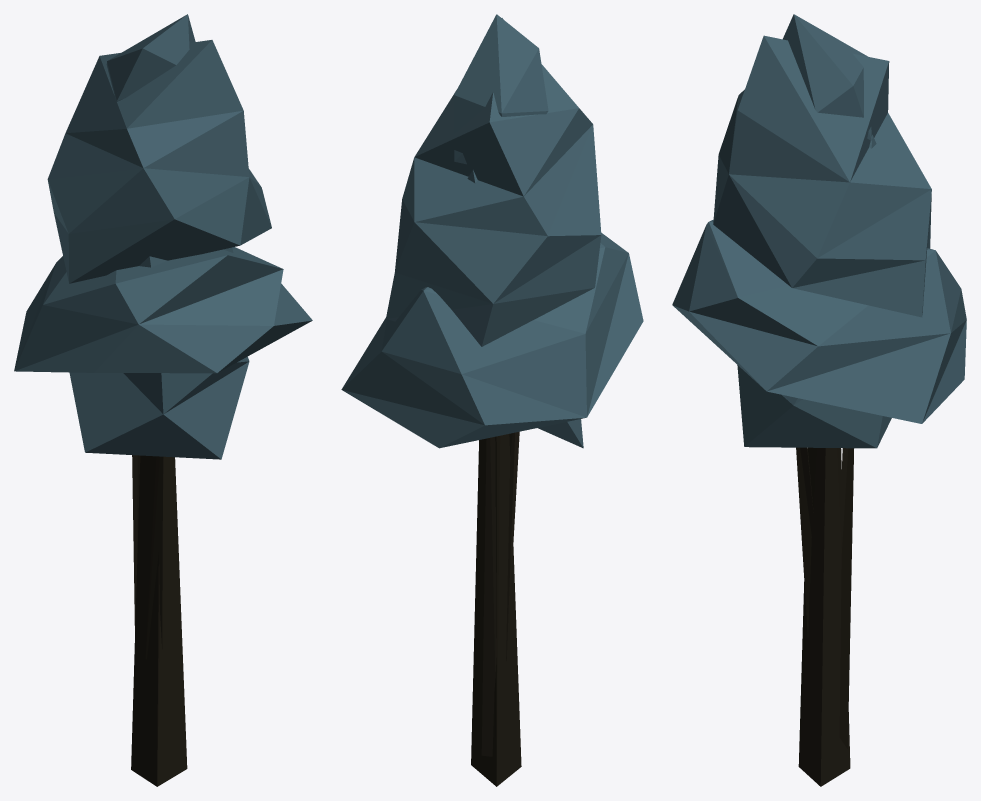
Rendered from drv3.obj.
3 renders of one model, left to right at view 1: azimuth 30°, elevation 25°; view 2: azimuth 150°, elevation 25°; view 3: azimuth 270°, elevation 25°, orthographic. The views are drawn at different scales.
Visible parts, largest first — view 1: Cube.000_Cube.003; view 2: Cube.000_Cube.003; view 3: Cube.000_Cube.003.
Part boxes in pixels (<box>): Cube.000_Cube.003: <box>14,14,312,786</box>; Cube.000_Cube.003: <box>341,14,643,786</box>; Cube.000_Cube.003: <box>672,14,966,786</box>.
Bounding box in the file's own units: 35.51 × 107 × 37.04.
